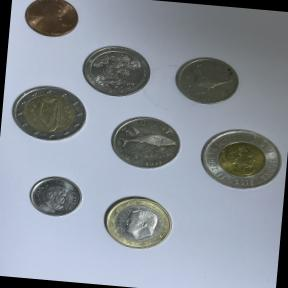1 Euro-B: (96, 191, 182, 257)
2 Euro-B: (6, 82, 92, 150)
Canada-10cent-B: (24, 172, 87, 224)
Canada-2Dollar-B: (194, 122, 288, 198)
Croatia-2Kune-B: (104, 108, 188, 175)
US-1cent-B: (16, 0, 86, 44)
US-25cent-B: (75, 38, 157, 102)
